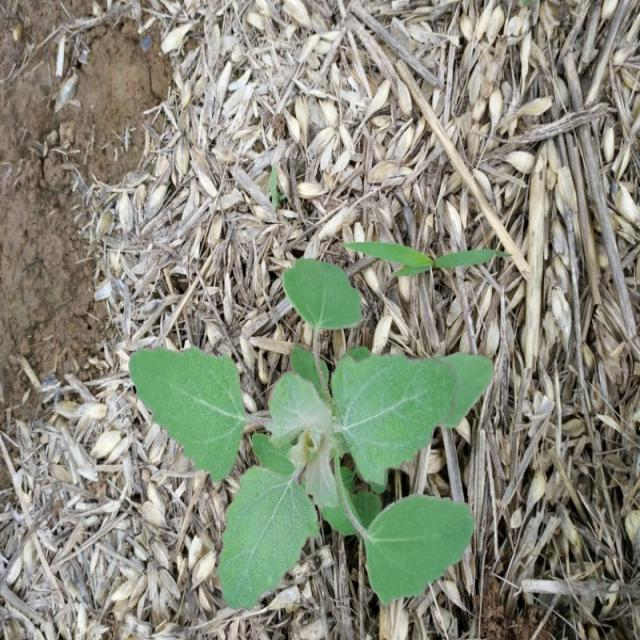goosefoots: (129, 246, 479, 588)
